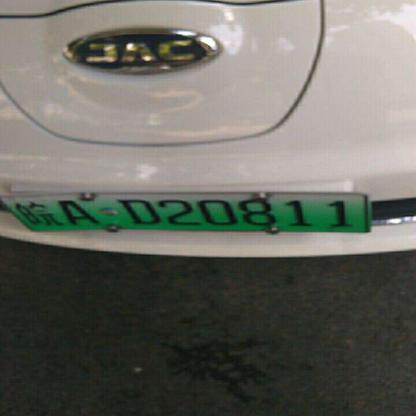lp: (2, 195, 367, 232)
